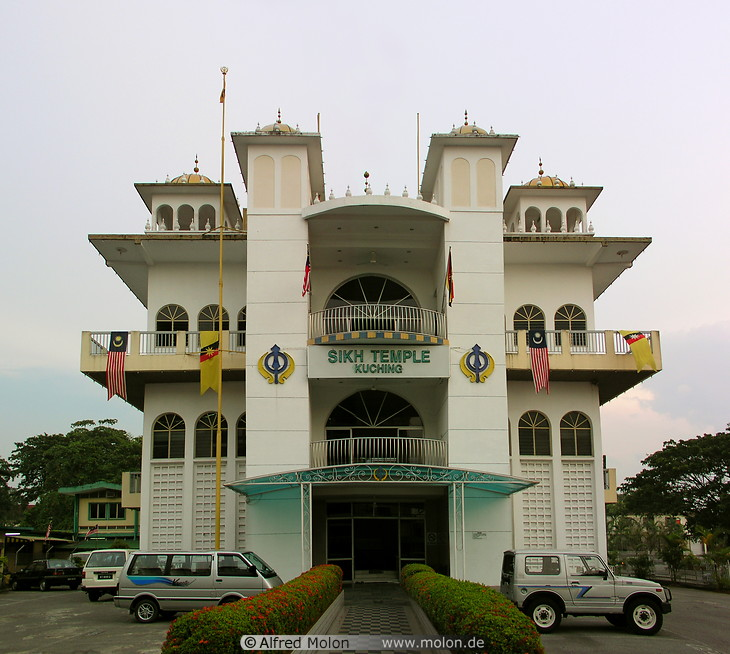Gurdwara: (108, 85, 599, 594)
